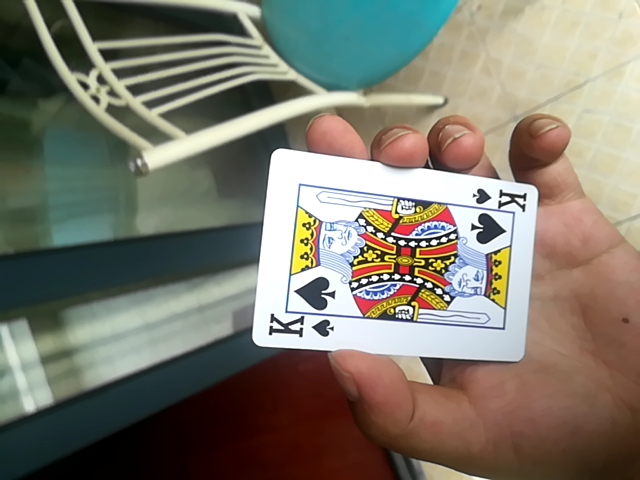ht k: (242, 151, 538, 365)
